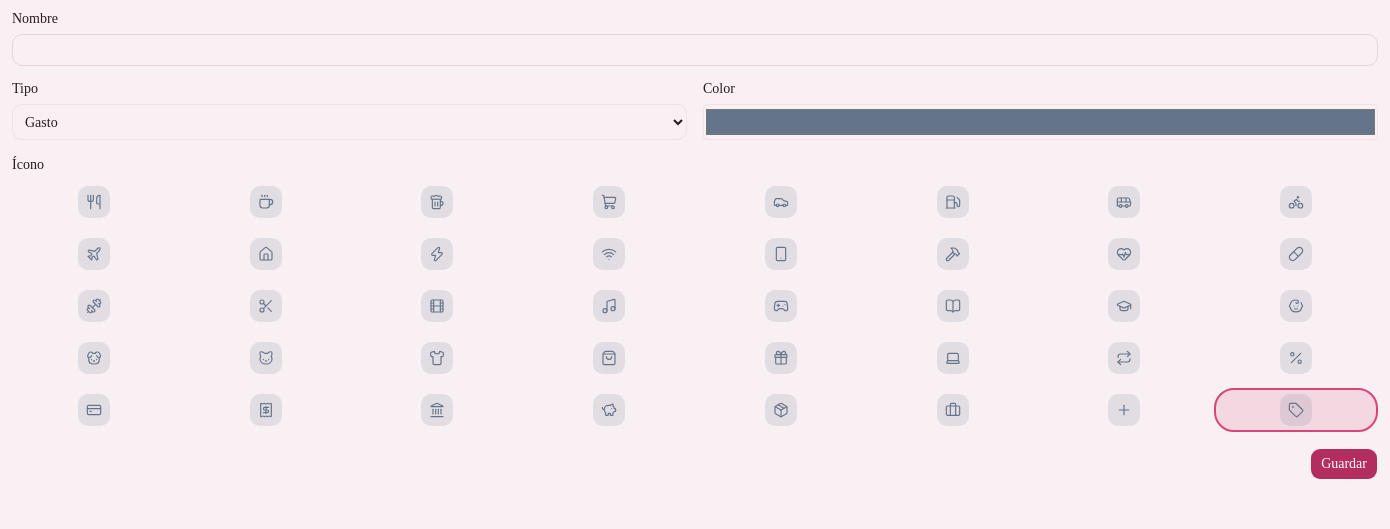
CategoryForm › requires a name
Click the button "Guardar" at (1344, 464), box [1310, 448, 1378, 480]
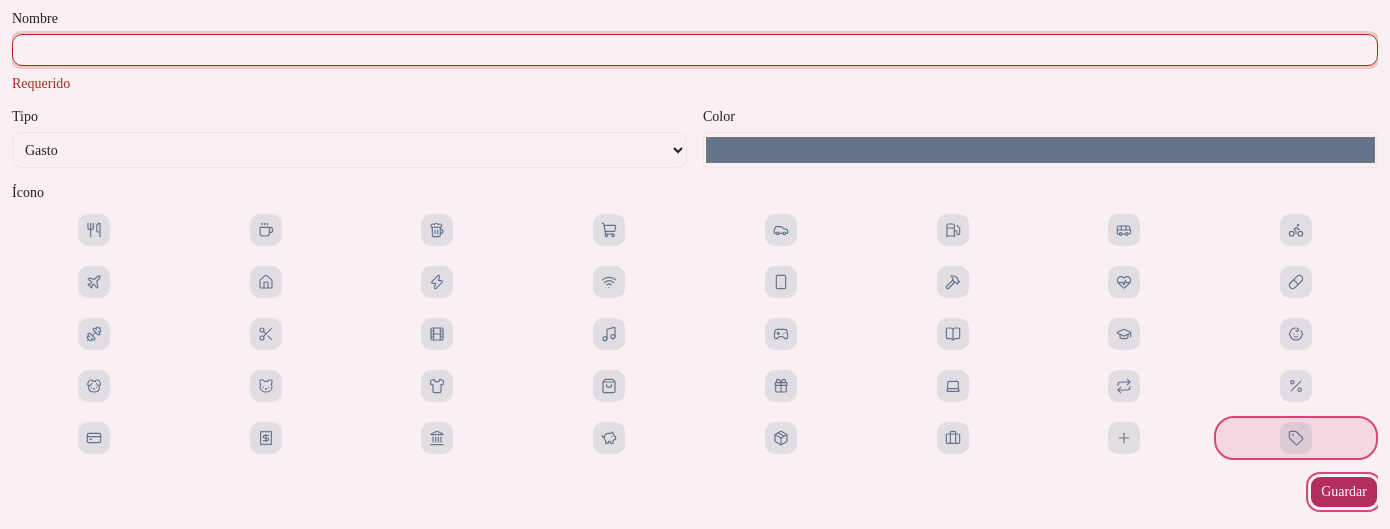
Now the text "Requerido" is shown, box [12, 76, 70, 91]
